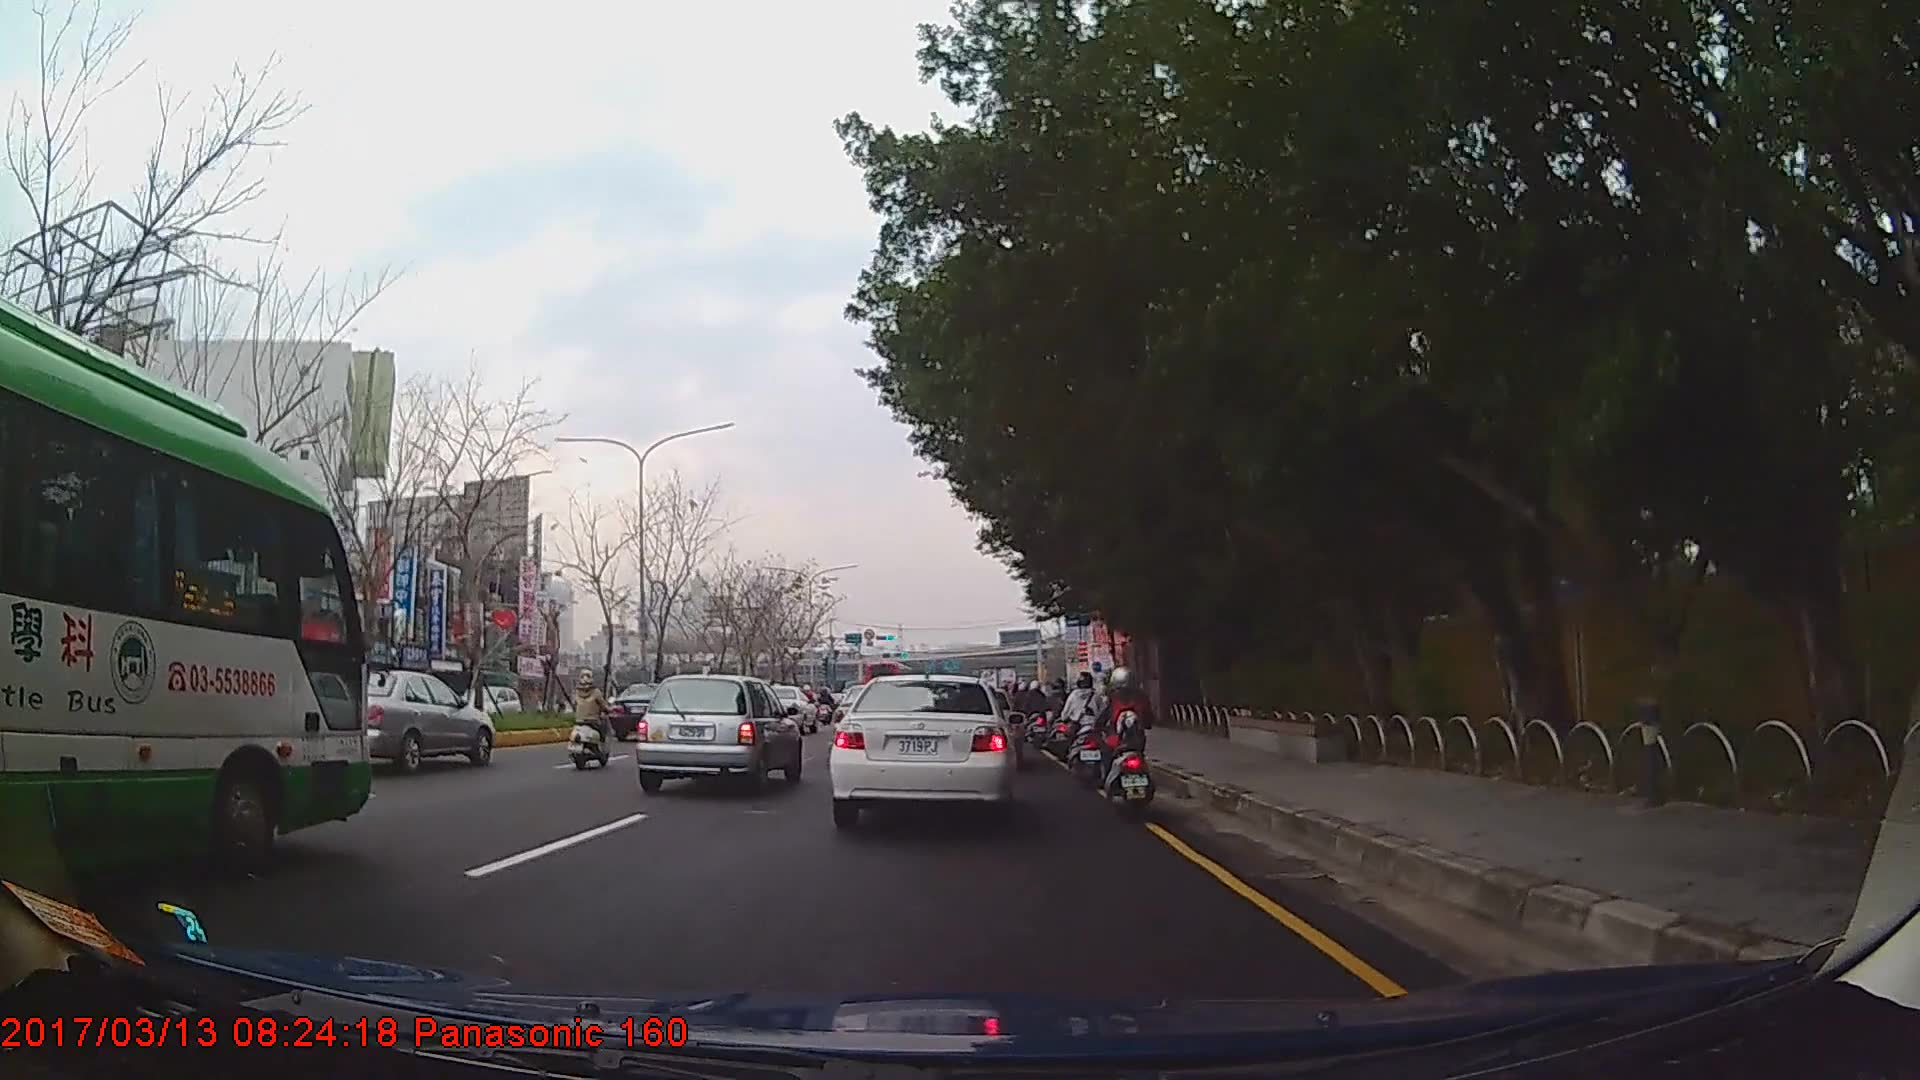rider: (1097, 662, 1159, 817), (1063, 672, 1109, 786), (576, 667, 619, 768), (1045, 679, 1071, 749)
vehicle: (0, 287, 375, 888), (826, 669, 1016, 828), (633, 668, 799, 791), (332, 666, 495, 771), (607, 679, 688, 742), (454, 679, 525, 723)
